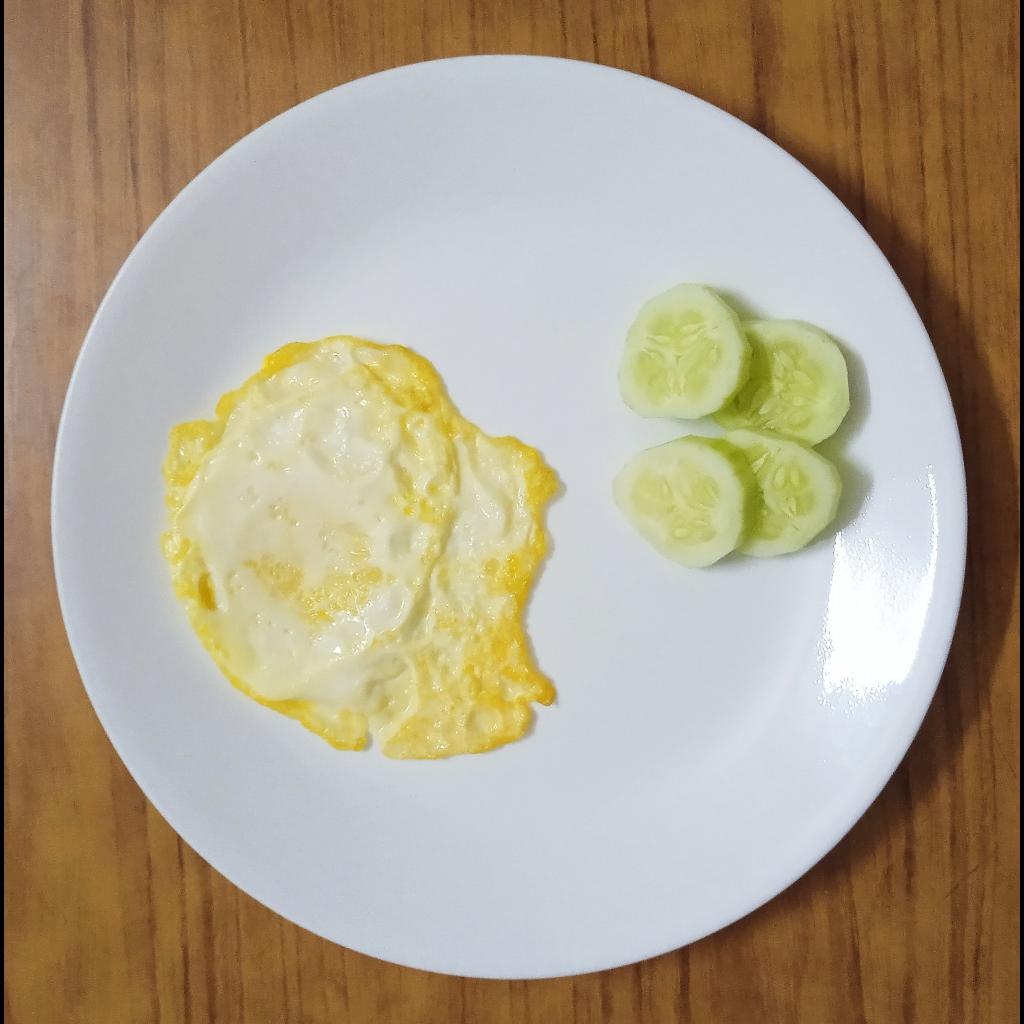cucumber: (610, 284, 850, 569)
egg-poached: (156, 333, 565, 759)
